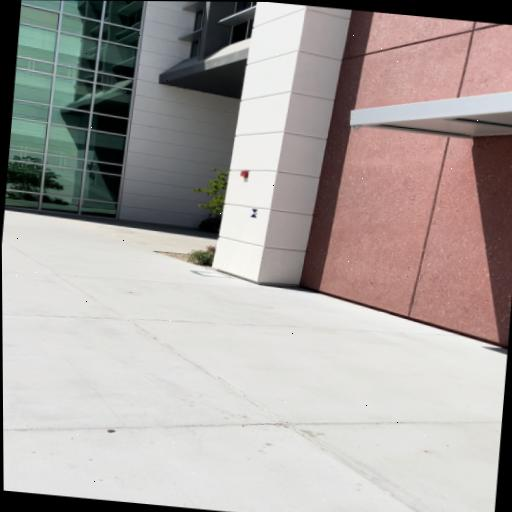target6: (251, 208, 259, 218)
